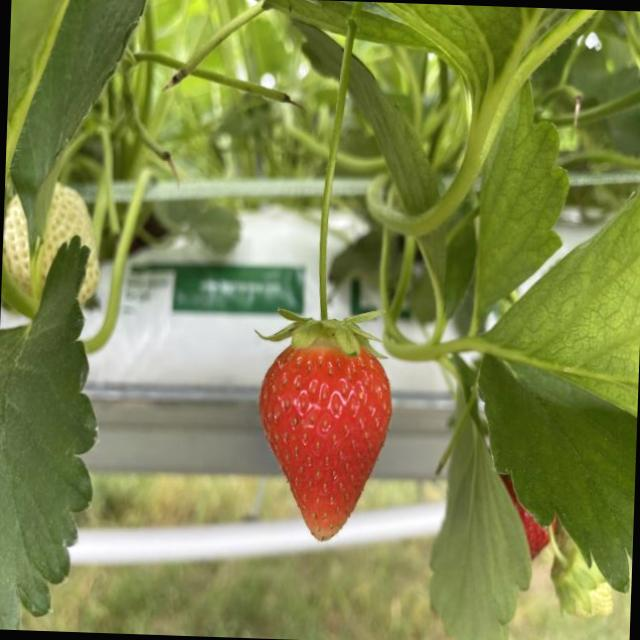stem: (258, 1, 379, 356)
strawberryR: (261, 346, 391, 539)
